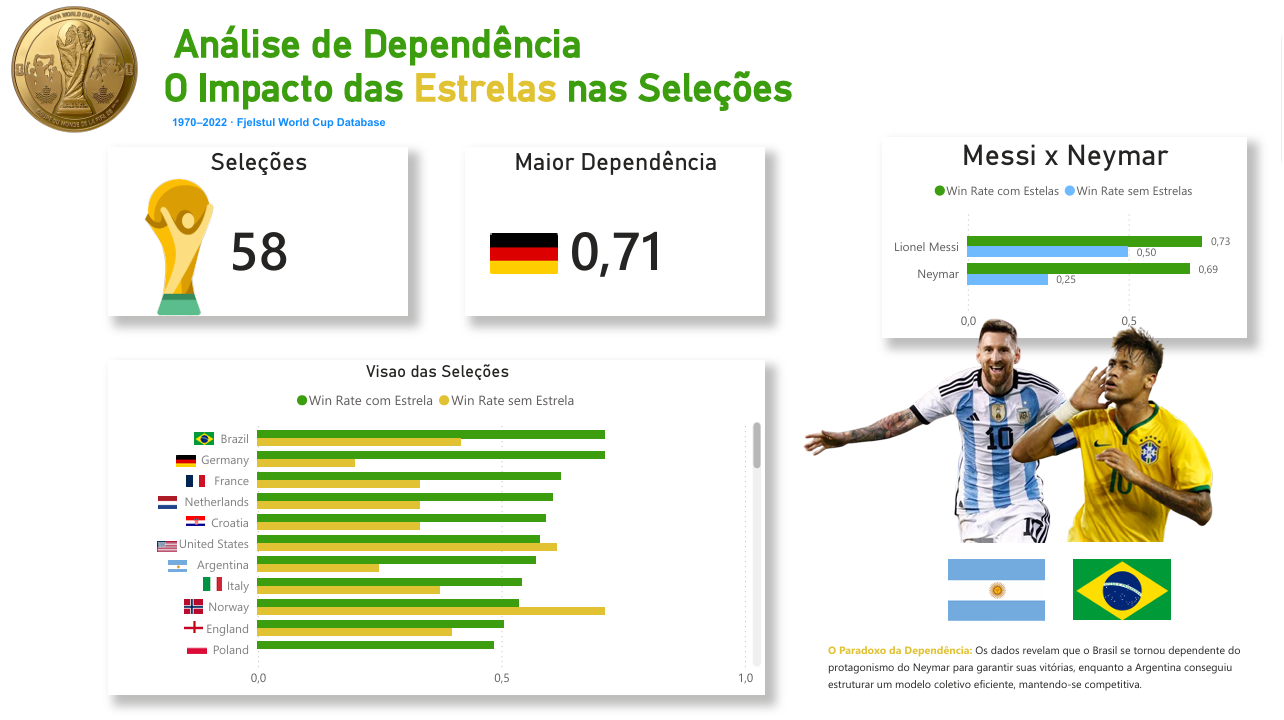

The page's visual inventory and layout, read from the dashboard file:
{"tool":"powerbi","page":{"name":"Página 1","canvas":[1280,720],"ordinal":0},"visuals":[{"type":"textbox","box":[156.9,26.3,663.8,110.6],"z":0},{"type":"textbox","box":[175,136.9,299.2,30.8],"z":1},{"type":"cardVisual","title":"Seleções","fields":{"Data":["CountNonNull(dependencia.team_id)"]},"box":[107,189.5,300.2,127],"z":2},{"type":"cardVisual","title":"Maior Dependência","fields":{"Data":["Max(dependencia.win_rate_estrela)"]},"box":[464.3,189.5,300.2,127],"z":3},{"type":"image","box":[813.4,316.5,365.4,229.4],"z":4},{"type":"image","box":[1075.5,559.5,113.4,60.8],"z":5},{"type":"image","box":[944,559.5,117,60.8],"z":6},{"type":"image","box":[0,0,144,137],"z":7},{"type":"image","box":[961.7,316.5,318.3,243],"z":8},{"type":"tableEx","title":"Visão Macro das Seleções","fields":{"Values":["dependencia.team_name","dependencia.win_rate_estrela","dependencia.win_rate_sem_estrela","dependencia.indice"]},"box":[107,393.6,680.1,304.7],"z":9},{"type":"clusteredBarChart","title":"Win Rate","fields":{"Category":["dependencia_morderna.player_name"],"Y":["Sum(dependencia_morderna.win_rate)","Sum(dependencia_morderna.win_rate_sem_modernas)"]},"box":[893.2,81.6,364.5,256.6],"z":10}]}

Visuals, with their boxes in screenshot pixels (x1, y1, x2, y2), scaled from the page's 1280x720 canvas onto the 1284x720 screenshot:
textbox: [157,26,823,137]
textbox: [176,137,476,168]
"Seleções" cardVisual: [107,190,408,316]
"Maior Dependência" cardVisual: [466,190,767,316]
image: [816,316,1182,546]
image: [1079,560,1193,620]
image: [947,560,1064,620]
image: [0,0,144,137]
image: [965,316,1283,560]
"Visão Macro das Seleções" tableEx: [107,394,790,698]
"Win Rate" clusteredBarChart: [896,82,1262,338]
